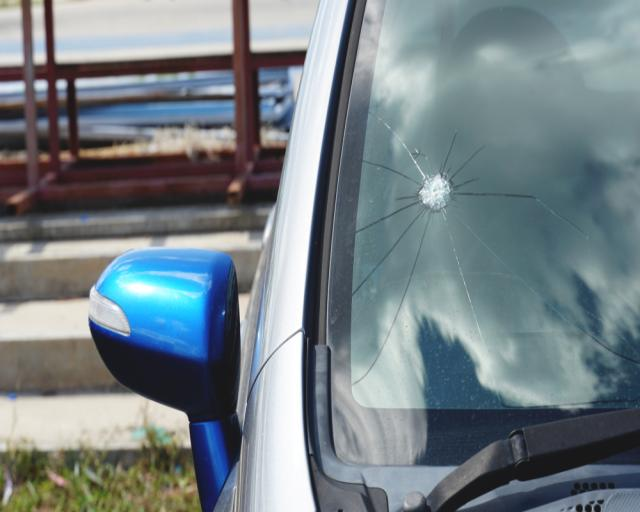glass shatter: (327, 0, 640, 465)
